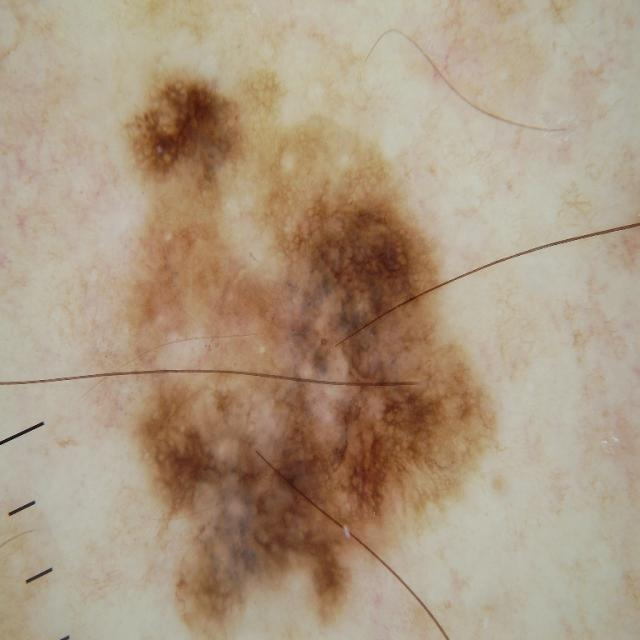Skin-Cancer Melanoma: (49, 10, 599, 640)
